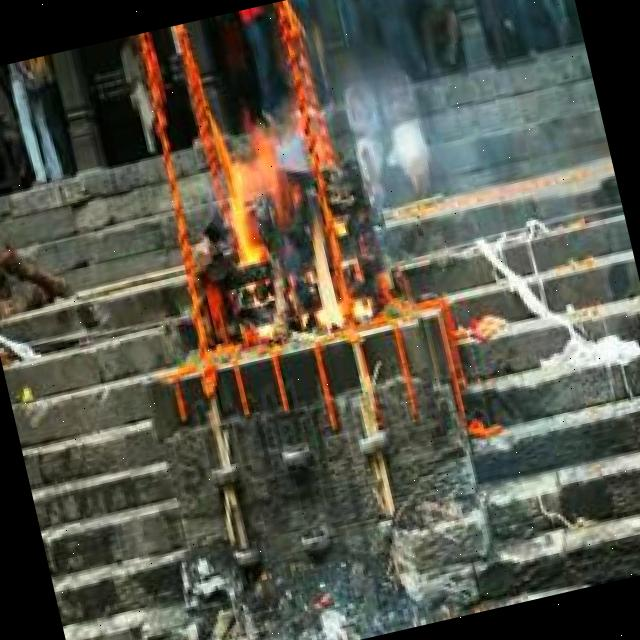fire: (202, 91, 359, 352)
